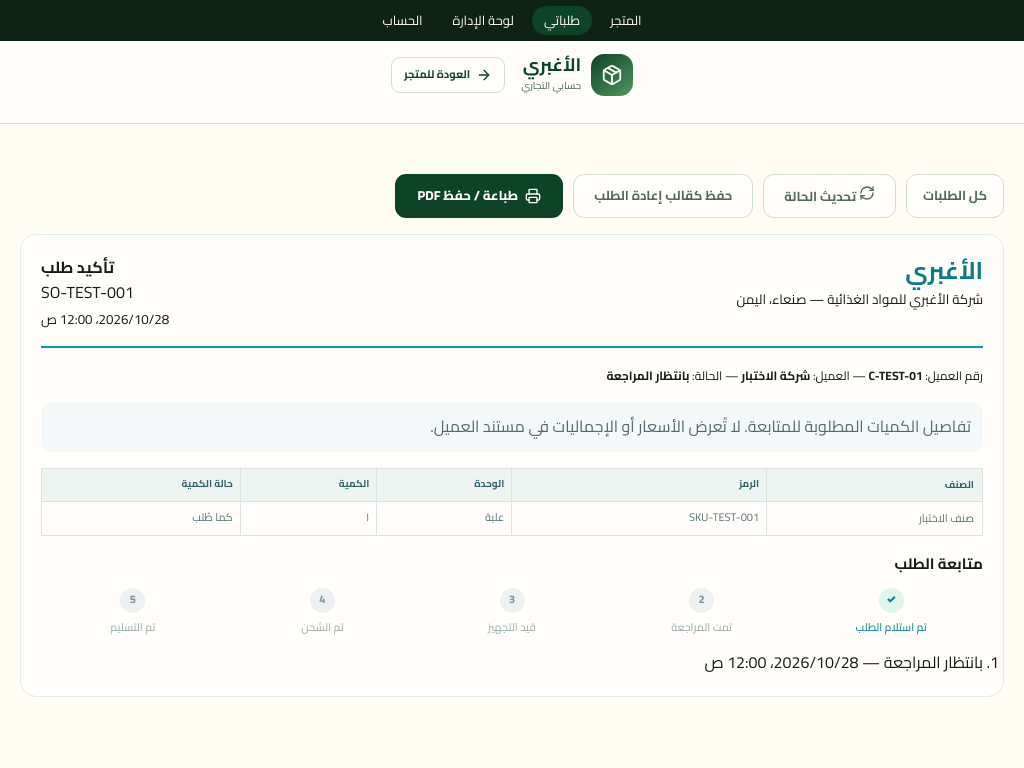
Test: customer order detail real route acceptance › re-reads persisted order status when the customer refreshes order details
The width and height of the screenshot is (1024, 768).
Click the button with aria-label "تحديث حالة الطلب من الخادم" at (830, 196), box left=763, top=174, right=896, bottom=218
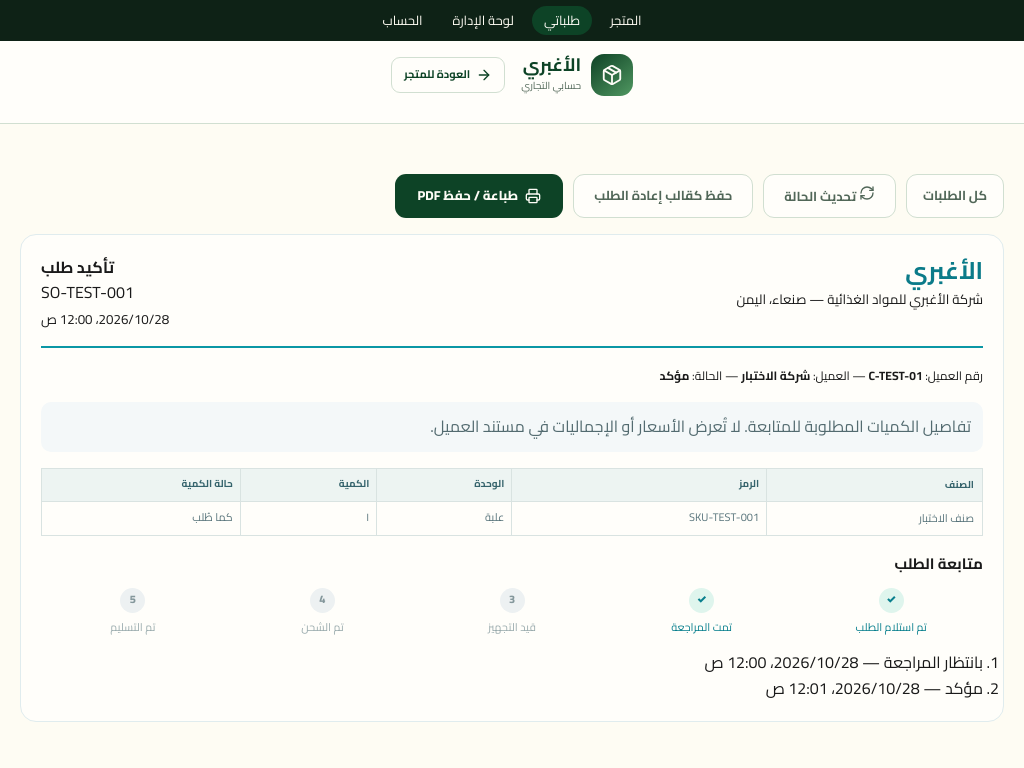
expect the text "الحالة: مؤكد" is shown: met, box left=660, top=364, right=983, bottom=387
